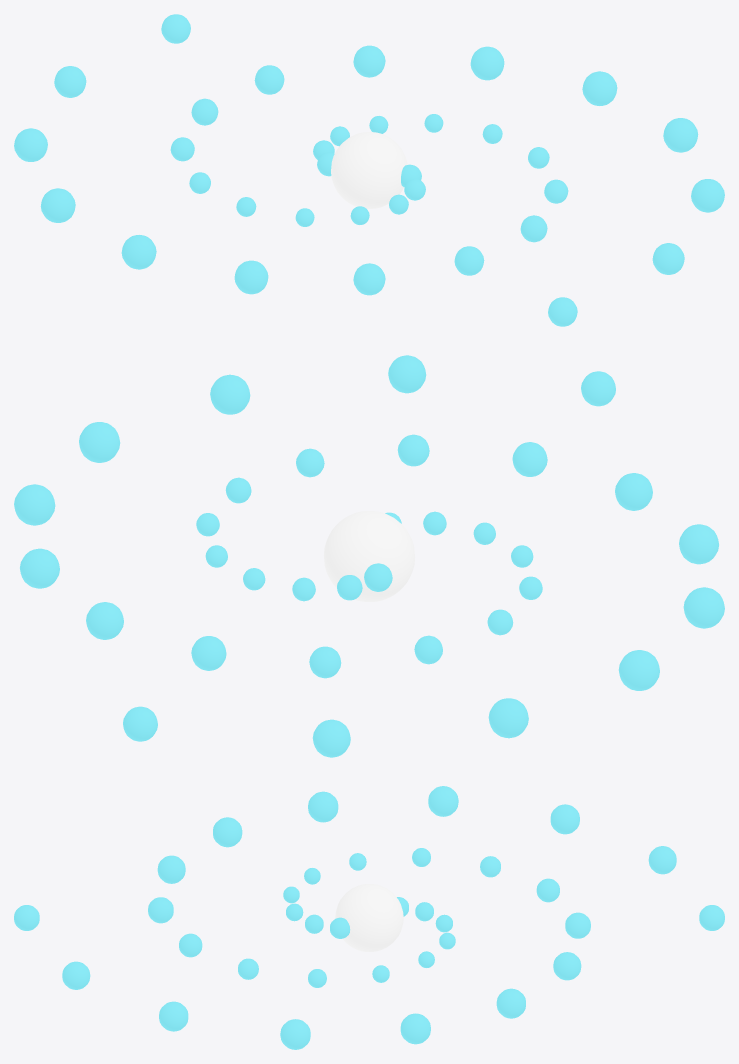
The model's file is spiral.glb.
The picture shows the model from 3 angles, top to bottom: view 1: azimuth 30°, elevation 25°; view 2: azimuth 150°, elevation 25°; view 3: azimuth 270°, elevation 25°; orthographic projection. The views are drawn at different scales.
Parts seen in each view (by area): view 1: arm, eye; view 2: arm, eye; view 3: arm, eye.
Part boxes in pixels (x1,y1,x2,y2): arm: [14, 14, 724, 326]; eye: [331, 132, 407, 208]; arm: [14, 355, 724, 757]; eye: [324, 511, 414, 601]; arm: [14, 786, 724, 1049]; eye: [335, 884, 403, 951].
Size of the model in its own units: 32.89 by 3.87 by 40.14.
